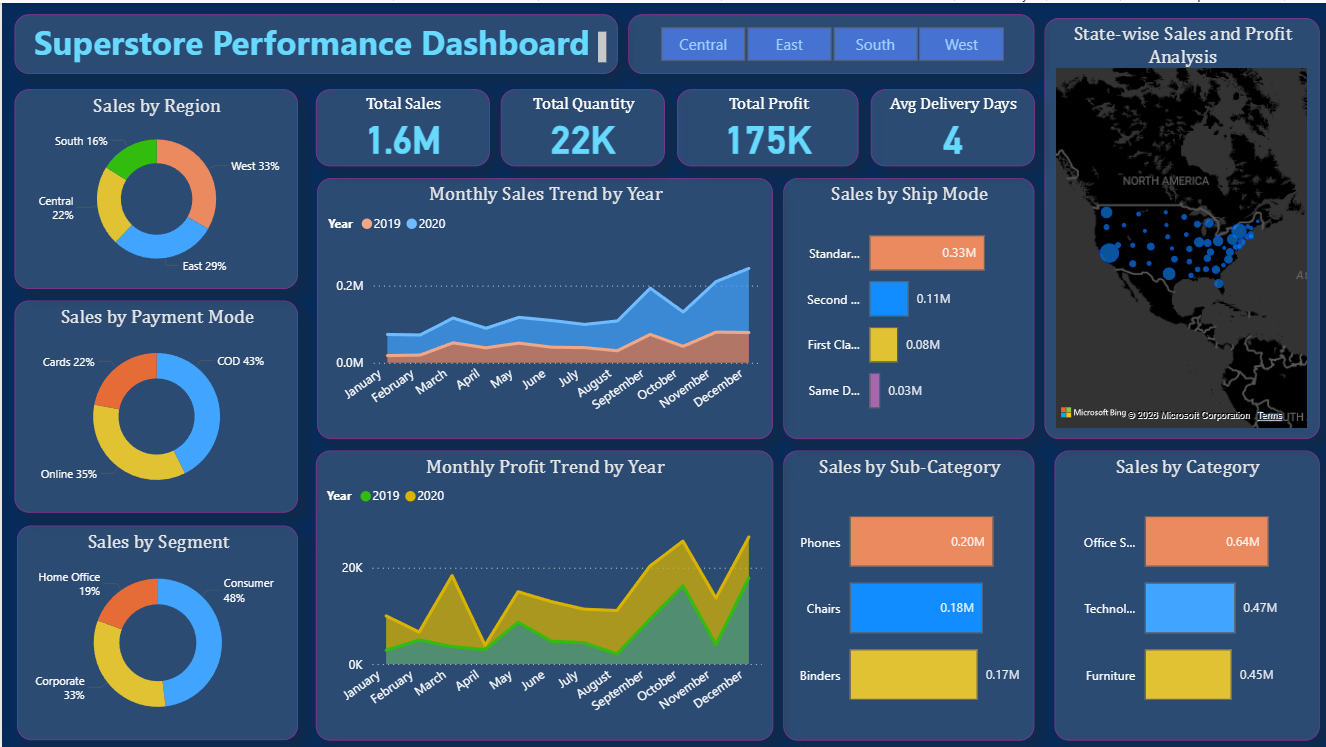

Layout of this report page (visuals, bound fields, positions):
{"tool":"powerbi","page":{"name":"Superstore dashboard","canvas":[1280,720],"ordinal":0},"visuals":[{"type":"clusteredBarChart","title":"Sales by Category","fields":{"Category":["SuperStore_Sales_Dataset.Category"],"Y":["Sum(SuperStore_Sales_Dataset.Sales)"]},"box":[1015.8,431.9,255.8,279.9],"z":0},{"type":"clusteredBarChart","title":"Sales by Sub-Category","fields":{"Category":["SuperStore_Sales_Dataset.Sub-Category"],"Y":["Sum(SuperStore_Sales_Dataset.Sales)"]},"box":[754,431.9,242.5,279.9],"z":1000},{"type":"clusteredBarChart","title":"Sales by Ship Mode","fields":{"Category":["SuperStore_Sales_Dataset.Ship Mode"],"Y":["Sum(SuperStore_Sales_Dataset.Sales)"]},"box":[754,168.9,242.5,252.1],"z":2000},{"type":"stackedAreaChart","title":"Monthly Sales Trend by Year","fields":{"Y":["Sum(SuperStore_Sales_Dataset.Sales)"],"Category":["SuperStore_Sales_Dataset.Order Date.Variation.Date Hierarchy.Month","SuperStore_Sales_Dataset.Order Date.Variation.Date Hierarchy.Day"],"Series":["SuperStore_Sales_Dataset.Order Date.Variation.Date Hierarchy.Year"]},"box":[304,168.9,440.4,252.1],"z":3000},{"type":"stackedAreaChart","title":"Monthly Profit Trend by Year","fields":{"Category":["SuperStore_Sales_Dataset.Order Date.Variation.Date Hierarchy.Month","SuperStore_Sales_Dataset.Order Date.Variation.Date Hierarchy.Day"],"Series":["SuperStore_Sales_Dataset.Order Date.Variation.Date Hierarchy.Year"],"Y":["Sum(SuperStore_Sales_Dataset.Profit)"]},"box":[302.8,431.9,441.6,279.9],"z":4000},{"type":"map","title":"State-wise Sales and Profit Analysis","fields":{"Category":["SuperStore_Sales_Dataset.State"],"Size":["Sum(SuperStore_Sales_Dataset.Sales)"]},"box":[1006.2,14.5,265.4,406.6],"z":5000},{"type":"donutChart","title":"Sales by Segment","fields":{"Category":["SuperStore_Sales_Dataset.Segment"],"Y":["Sum(SuperStore_Sales_Dataset.Sales)"]},"box":[14.5,504.3,271.4,207.5],"z":6000},{"type":"donutChart","title":"Sales by Payment Mode","fields":{"Y":["Sum(SuperStore_Sales_Dataset.Sales)"],"Category":["SuperStore_Sales_Dataset.Payment Mode"]},"box":[12.1,287.1,273.9,205.1],"z":7000},{"type":"slicer","fields":{"Values":["SuperStore_Sales_Dataset.Region"]},"box":[604.4,10.9,392.1,57.9],"z":8000},{"type":"card","title":"Total Sales","fields":{"Values":["Sum(SuperStore_Sales_Dataset.Sales)"]},"box":[302.8,83.2,167.7,74.8],"z":9000},{"type":"card","title":"Total Quantity","fields":{"Values":["Sum(SuperStore_Sales_Dataset.Quantity)"]},"box":[481.4,83.2,158,74.8],"z":10000},{"type":"card","title":"Total Profit","fields":{"Values":["Sum(SuperStore_Sales_Dataset.Profit)"]},"box":[651.5,83.2,174.9,74.8],"z":11000},{"type":"card","title":"Avg Delivery Days","fields":{"Values":["Avg(SuperStore_Sales_Dataset.AvgDelivery)"]},"box":[838.5,83.2,158,74.8],"z":12000},{"type":"donutChart","title":"Sales by Region","fields":{"Y":["Sum(SuperStore_Sales_Dataset.Sales)"],"Category":["SuperStore_Sales_Dataset.Region"]},"box":[12.1,83.2,273.9,193],"z":13000},{"type":"textbox","box":[12.1,10.9,582.7,57.9],"z":14000}]}

Visuals, with their boxes in screenshot pixels (x1, y1, x2, y2), scaled from the page's 1280x720 canvas onto the 1326x747 screenshot:
"Sales by Category" clusteredBarChart: bbox=(1052, 448, 1317, 738)
"Sales by Sub-Category" clusteredBarChart: bbox=(781, 448, 1032, 738)
"Sales by Ship Mode" clusteredBarChart: bbox=(781, 175, 1032, 437)
"Monthly Sales Trend by Year" stackedAreaChart: bbox=(315, 175, 771, 437)
"Monthly Profit Trend by Year" stackedAreaChart: bbox=(314, 448, 771, 738)
"State-wise Sales and Profit Analysis" map: bbox=(1042, 15, 1317, 437)
"Sales by Segment" donutChart: bbox=(15, 523, 296, 738)
"Sales by Payment Mode" donutChart: bbox=(13, 298, 296, 511)
slicer - SuperStore_Sales_Dataset.Region: bbox=(626, 11, 1032, 71)
"Total Sales" card: bbox=(314, 86, 487, 164)
"Total Quantity" card: bbox=(499, 86, 662, 164)
"Total Profit" card: bbox=(675, 86, 856, 164)
"Avg Delivery Days" card: bbox=(869, 86, 1032, 164)
"Sales by Region" donutChart: bbox=(13, 86, 296, 287)
textbox: bbox=(13, 11, 616, 71)
